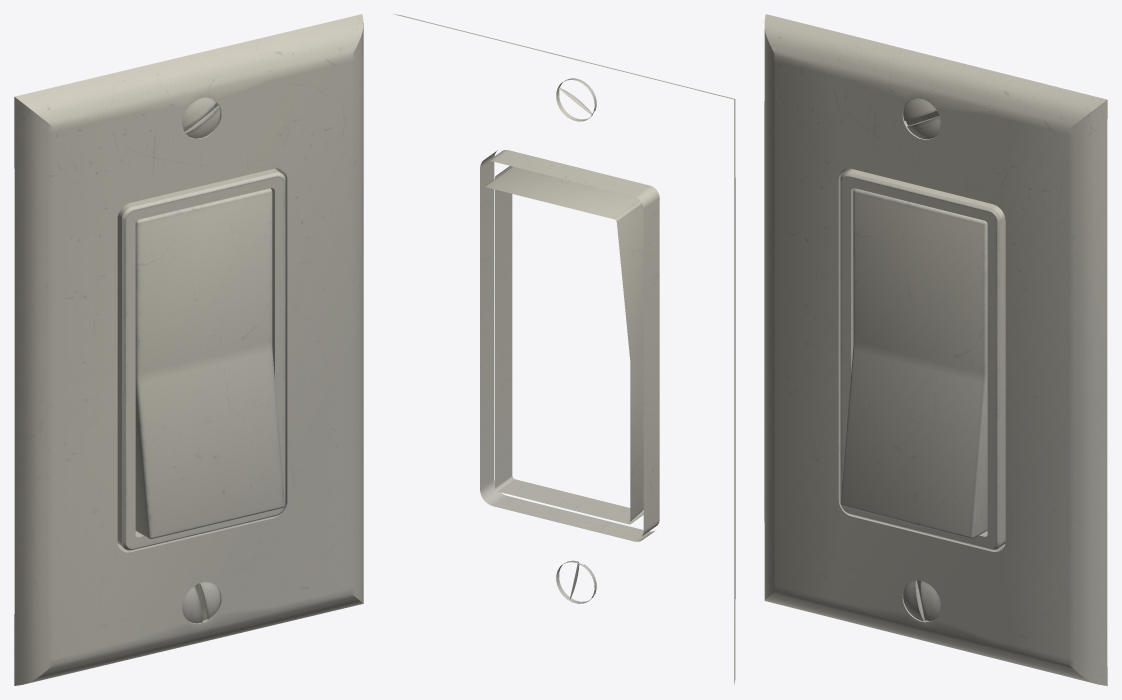
Rendered from light_switch.glb.
3 views of the same model, side by side, from view 1: azimuth 30°, elevation 25°; view 2: azimuth 150°, elevation 25°; view 3: azimuth 330°, elevation 25° (orthographic).
Parts seen in each view (by area): view 1: CoverPlate.001, Switch.001, SwitchHolder.001, ScrewTop.001, ScrewBottom.001; view 2: SwitchHolder.001, CoverPlate.001, Switch.001; view 3: CoverPlate.001, Switch.001, SwitchHolder.001, ScrewBottom.001, ScrewTop.001.
Part boxes in pixels (<box>): CoverPlate.001: <box>14,14,363,685</box>; Switch.001: <box>135,188,284,538</box>; SwitchHolder.001: <box>117,168,285,550</box>; ScrewTop.001: <box>182,97,220,138</box>; ScrewBottom.001: <box>182,582,220,623</box>; SwitchHolder.001: <box>487,150,659,535</box>; CoverPlate.001: <box>393,14,735,684</box>; Switch.001: <box>484,166,643,521</box>; CoverPlate.001: <box>764,14,1107,685</box>; Switch.001: <box>840,188,987,538</box>; SwitchHolder.001: <box>840,168,1005,549</box>; ScrewBottom.001: <box>903,580,940,621</box>; ScrewTop.001: <box>903,98,940,138</box>.
Bounding box in the file's own units: 0.07 × 0.114 × 0.0156.
1 material, 1 textured.
